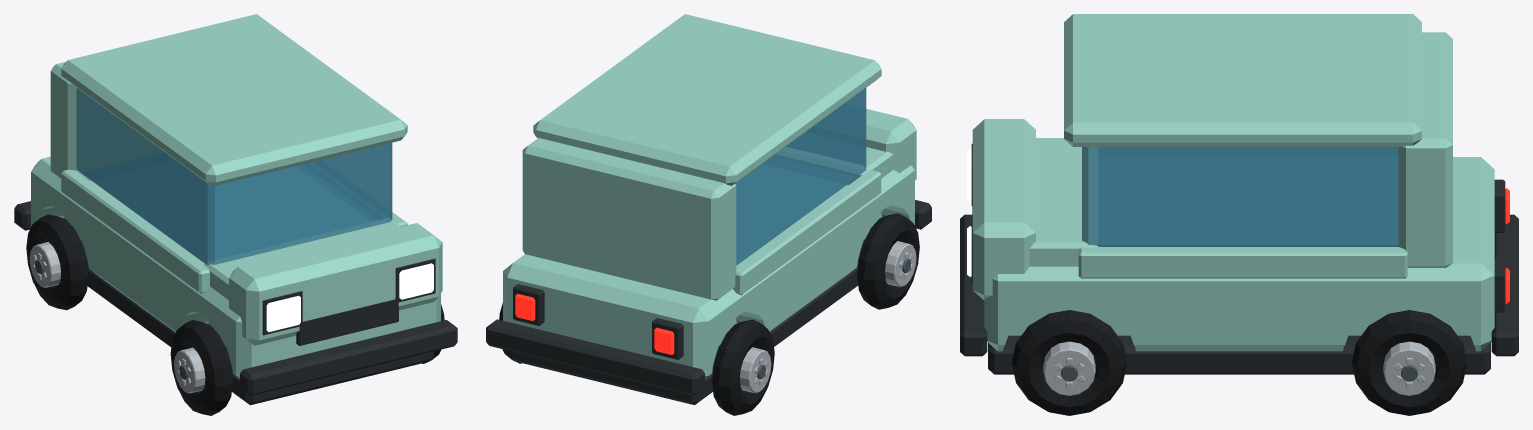
Rendered from MiniCar.glb.
3 views of the same model, side by side, from view 1: azimuth 30°, elevation 25°; view 2: azimuth 150°, elevation 25°; view 3: azimuth 270°, elevation 25° (orthographic). The views are drawn at different scales.
Visible parts, largest first — view 1: BodyPaint_Mesh, Glass_Mesh, Trim_Mesh, Wheel_FL_Tire, Wheel_RL_Tire, Wheel_FL_Hub, Wheel_RL_Hub, HeadlightGlow_L, HeadlightGlow_R; view 2: BodyPaint_Mesh, Trim_Mesh, Glass_Mesh, Wheel_RL_Tire, Wheel_FL_Tire, Wheel_RL_Hub, Wheel_FL_Hub, TailLightGlow_L, TailLightGlow_R; view 3: BodyPaint_Mesh, Glass_Mesh, Trim_Mesh, Wheel_FR_Tire, Wheel_RR_Tire, Wheel_FR_Hub, Wheel_RR_Hub.
Boxes of the visible parts, <box> form: BodyPaint_Mesh: <box>31,14,442,378</box>; Glass_Mesh: <box>76,87,392,265</box>; Trim_Mesh: <box>14,201,457,405</box>; Wheel_FL_Tire: <box>170,320,232,415</box>; Wheel_RL_Tire: <box>26,214,88,310</box>; Wheel_FL_Hub: <box>174,347,205,393</box>; Wheel_RL_Hub: <box>29,242,60,287</box>; HeadlightGlow_L: <box>266,295,300,331</box>; HeadlightGlow_R: <box>399,263,433,299</box>; BodyPaint_Mesh: <box>503,14,916,378</box>; Trim_Mesh: <box>486,200,931,404</box>; Glass_Mesh: <box>735,88,866,265</box>; Wheel_RL_Tire: <box>712,319,774,415</box>; Wheel_FL_Tire: <box>857,213,919,309</box>; Wheel_RL_Hub: <box>739,347,771,393</box>; Wheel_FL_Hub: <box>885,241,916,287</box>; TailLightGlow_L: <box>654,327,674,354</box>; TailLightGlow_R: <box>515,293,535,320</box>; BodyPaint_Mesh: <box>972,14,1494,351</box>; Glass_Mesh: <box>1082,147,1398,246</box>; Trim_Mesh: <box>960,143,1518,374</box>; Wheel_FR_Tire: <box>1011,310,1127,415</box>; Wheel_RR_Tire: <box>1351,310,1467,415</box>; Wheel_FR_Hub: <box>1043,341,1095,395</box>; Wheel_RR_Hub: <box>1383,341,1435,395</box>.
Size of what is drawn, in the model's own units: 1.89 by 1.75 by 3.09.
